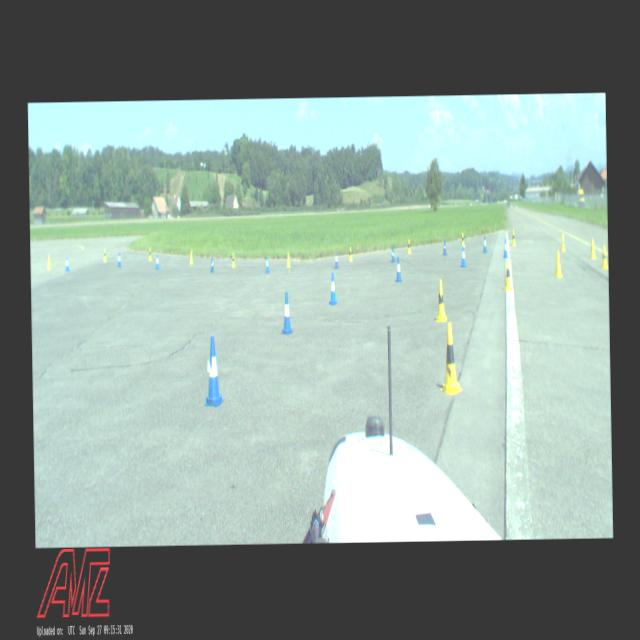blue_cone: (203, 336, 224, 406), (280, 290, 293, 334), (328, 271, 337, 305), (394, 255, 401, 282), (502, 236, 508, 259), (460, 245, 466, 268), (264, 255, 270, 273), (482, 235, 488, 253), (442, 238, 447, 256), (334, 250, 338, 268), (390, 245, 394, 262), (117, 251, 121, 267), (155, 253, 159, 269), (64, 256, 68, 272), (210, 256, 213, 272)
yellow_cone: (438, 322, 462, 394), (434, 279, 446, 322), (503, 257, 512, 290), (554, 249, 562, 278), (600, 244, 608, 268), (589, 238, 596, 258), (559, 232, 565, 252), (510, 228, 516, 246), (286, 251, 290, 268), (348, 246, 352, 262), (460, 232, 464, 248), (407, 238, 411, 254), (231, 252, 235, 268), (46, 255, 50, 269), (189, 250, 193, 264), (148, 247, 152, 260), (103, 248, 106, 262)
